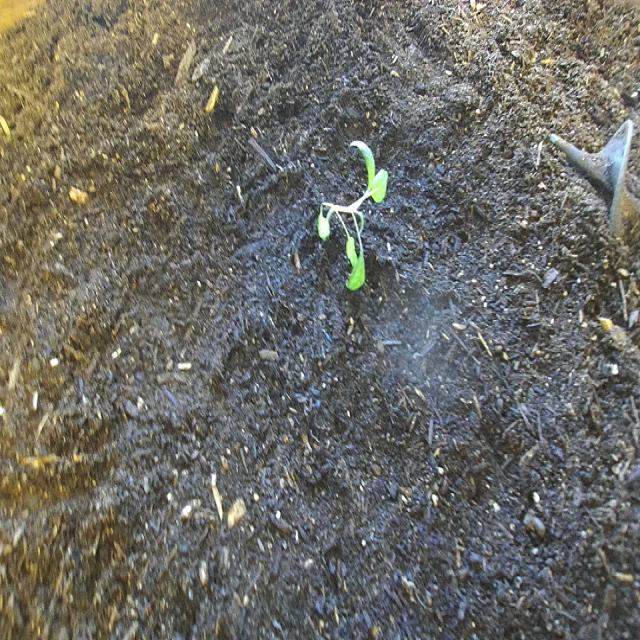Healthy: (310, 130, 393, 304)
